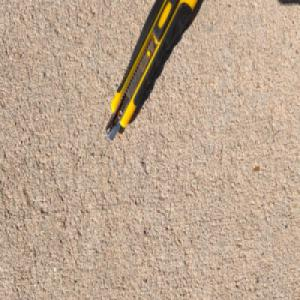Cutter: (105, 0, 202, 142)
